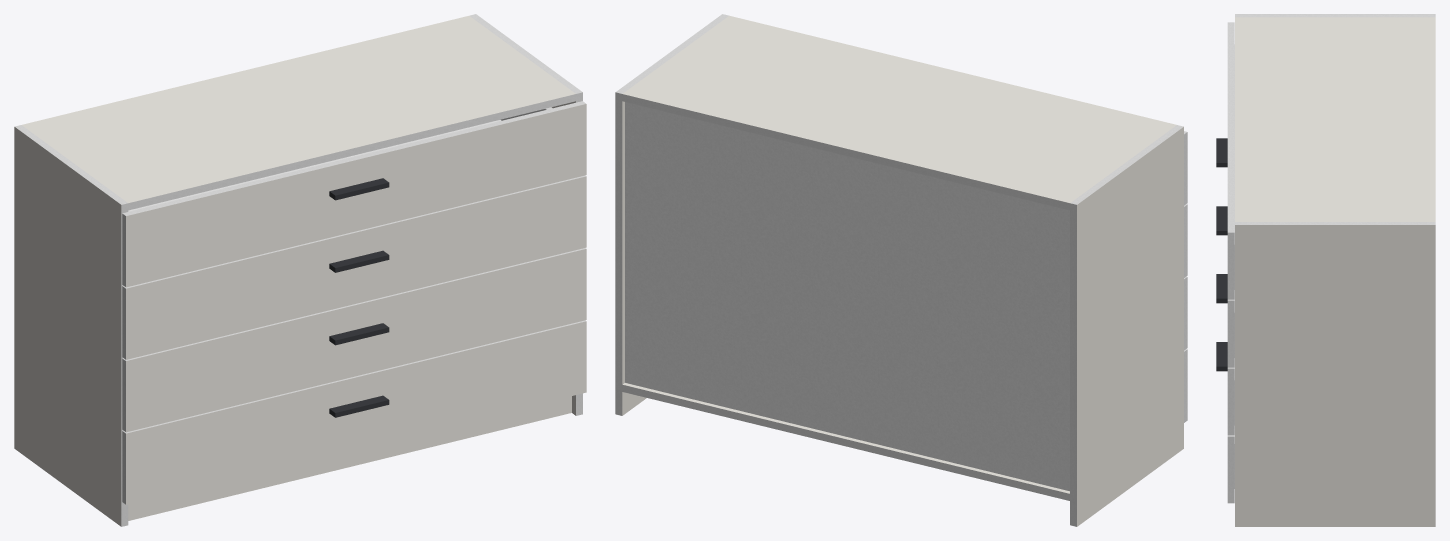
File: LIT-DRS-std.glb
3 views of the same model, side by side, from view 1: azimuth 30°, elevation 25°; view 2: azimuth 150°, elevation 25°; view 3: azimuth 270°, elevation 25° (orthographic). The views are drawn at different scales.
Visible parts, largest first — view 1: top:pbr, side-l:pbr, d1-front:pbr, d2-front:pbr, d3-front:pbr, d4-front:pbr, plinth:pbr, top:sheet:eyJtIjoibWRmIiwic2lkZSI6ImVkZ2UtbG9uZyIsInNlZWQiOj, pull, d4-front:sheet:eyJtIjoibWRmIiwic2lkZSI6ImVkZ2UtbG9uZyIsInNlZ, d1-front:sheet:eyJtIjoibWRmIiwic2lkZSI6ImVkZ2UtbG9uZyIsInNlZ, d2-front:sheet:eyJtIjoibWRmIiwic2lkZSI6ImVkZ2UtbG9uZyIsInNlZ (+5 smaller); view 2: back:sheet:eyJtIjoibWRmIiwic2lkZSI6ImZhY2UiLCJzZWVkIjo0LCJ0a, top:pbr, side-l:pbr, top:sheet:eyJtIjoibWRmIiwic2lkZSI6ImVkZ2UtbG9uZyIsInNlZWQiOj, bottom:sheet:eyJtIjoibWRmIiwic2lkZSI6ImVkZ2UtbG9uZyIsInNlZWQ, side-r:sheet:eyJtIjoibWRmIiwic2lkZSI6ImVkZ2UtbG9uZyIsInNlZWQ, side-l:sheet:eyJtIjoibWRmIiwic2lkZSI6ImVkZ2UtbG9uZyIsInNlZWQ, bottom:pbr, side-r:pbr, side-r:sheet:eyJtIjoibWRmIiwic2lkZSI6ImVkZ2UtZW5kIiwic2VlZCI, side-l:sheet:eyJtIjoibWRmIiwic2lkZSI6ImVkZ2UtZW5kIiwic2VlZCI; view 3: side-r:pbr, top:pbr, d4-front:sheet:eyJtIjoibWRmIiwic2lkZSI6ImVkZ2UtbG9uZyIsInNlZ, pull, side-l:sheet:eyJtIjoibWRmIiwic2lkZSI6ImVkZ2UtZW5kIiwic2VlZCI, side-r:sheet:eyJtIjoibWRmIiwic2lkZSI6ImVkZ2UtZW5kIiwic2VlZCI, d3-front:sheet:eyJtIjoibWRmIiwic2lkZSI6ImVkZ2UtZW5kIiwic2VlZ, d4-front:sheet:eyJtIjoibWRmIiwic2lkZSI6ImVkZ2UtZW5kIiwic2VlZ, d1-front:sheet:eyJtIjoibWRmIiwic2lkZSI6ImVkZ2UtZW5kIiwic2VlZ, d2-front:sheet:eyJtIjoibWRmIiwic2lkZSI6ImVkZ2UtZW5kIiwic2VlZ.
Part boxes in pixels (x1,y1,x2,y2): top:pbr: (22,16,575,202); side-l:pbr: (14,127,121,526); d1-front:pbr: (126,321,586,504); d2-front:pbr: (126,249,586,432); d3-front:pbr: (126,176,586,359); d4-front:pbr: (126,104,586,287); plinth:pbr: (128,396,571,520); top:sheet:eyJtIjoibWRmIiwic2lkZSI6ImVkZ2UtbG9uZyIsInNlZWQiOj: (128,94,575,210); pull: (329,178,389,417); d4-front:sheet:eyJtIjoibWRmIiwic2lkZSI6ImVkZ2UtbG9uZyIsInNlZ: (122,101,585,215); d1-front:sheet:eyJtIjoibWRmIiwic2lkZSI6ImVkZ2UtbG9uZyIsInNlZ: (122,320,585,433); d2-front:sheet:eyJtIjoibWRmIiwic2lkZSI6ImVkZ2UtbG9uZyIsInNlZ: (122,248,585,360); back:sheet:eyJtIjoibWRmIiwic2lkZSI6ImZhY2UiLCJzZWVkIjo0LCJ0a: (625,102,1069,491); top:pbr: (623,15,1176,202); side-l:pbr: (1077,127,1183,526); top:sheet:eyJtIjoibWRmIiwic2lkZSI6ImVkZ2UtbG9uZyIsInNlZWQiOj: (622,94,1069,210); bottom:sheet:eyJtIjoibWRmIiwic2lkZSI6ImVkZ2UtbG9uZyIsInNlZWQ: (622,384,1069,500); side-r:sheet:eyJtIjoibWRmIiwic2lkZSI6ImVkZ2UtbG9uZyIsInNlZWQ: (615,92,622,415); side-l:sheet:eyJtIjoibWRmIiwic2lkZSI6ImVkZ2UtbG9uZyIsInNlZWQ: (1070,203,1076,526); bottom:pbr: (623,383,1069,493); side-r:pbr: (622,101,646,415); side-r:sheet:eyJtIjoibWRmIiwic2lkZSI6ImVkZ2UtZW5kIiwic2VlZCI: (616,14,728,93); side-l:sheet:eyJtIjoibWRmIiwic2lkZSI6ImVkZ2UtZW5kIiwic2VlZCI: (1070,125,1183,204); side-r:pbr: (1235,225,1435,526); top:pbr: (1235,17,1435,221); d4-front:sheet:eyJtIjoibWRmIiwic2lkZSI6ImVkZ2UtbG9uZyIsInNlZ: (1227,22,1234,232); pull: (1216,138,1227,371); side-l:sheet:eyJtIjoibWRmIiwic2lkZSI6ImVkZ2UtZW5kIiwic2VlZCI: (1235,14,1435,17); side-r:sheet:eyJtIjoibWRmIiwic2lkZSI6ImVkZ2UtZW5kIiwic2VlZCI: (1235,222,1435,224); d3-front:sheet:eyJtIjoibWRmIiwic2lkZSI6ImVkZ2UtZW5kIiwic2VlZ: (1227,300,1234,367); d4-front:sheet:eyJtIjoibWRmIiwic2lkZSI6ImVkZ2UtZW5kIiwic2VlZ: (1227,232,1234,299); d1-front:sheet:eyJtIjoibWRmIiwic2lkZSI6ImVkZ2UtZW5kIiwic2VlZ: (1227,436,1234,503); d2-front:sheet:eyJtIjoibWRmIiwic2lkZSI6ImVkZ2UtZW5kIiwic2VlZ: (1227,368,1234,435).
Size of the model in its own units: 1.2 by 0.8 by 0.527.
91 materials, 81 textured.
